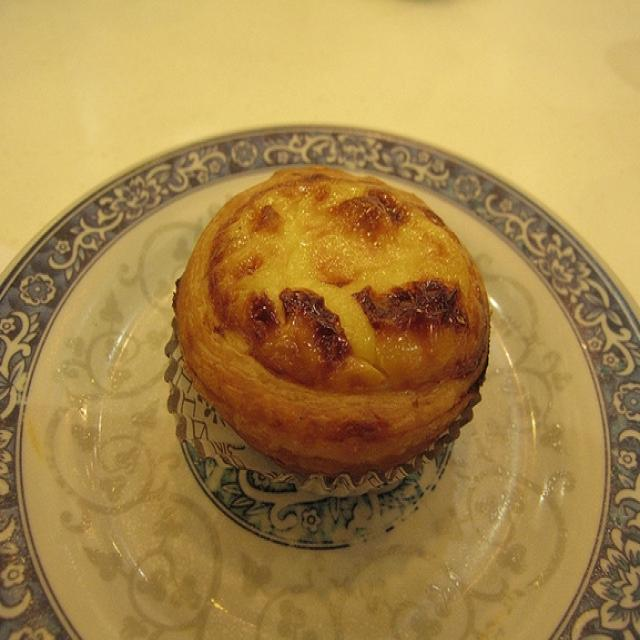炸货点心: (155, 150, 499, 546)
蛋糕甜品: (155, 150, 499, 546)
